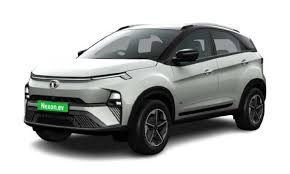Tata Nexon: (21, 21, 268, 157)
